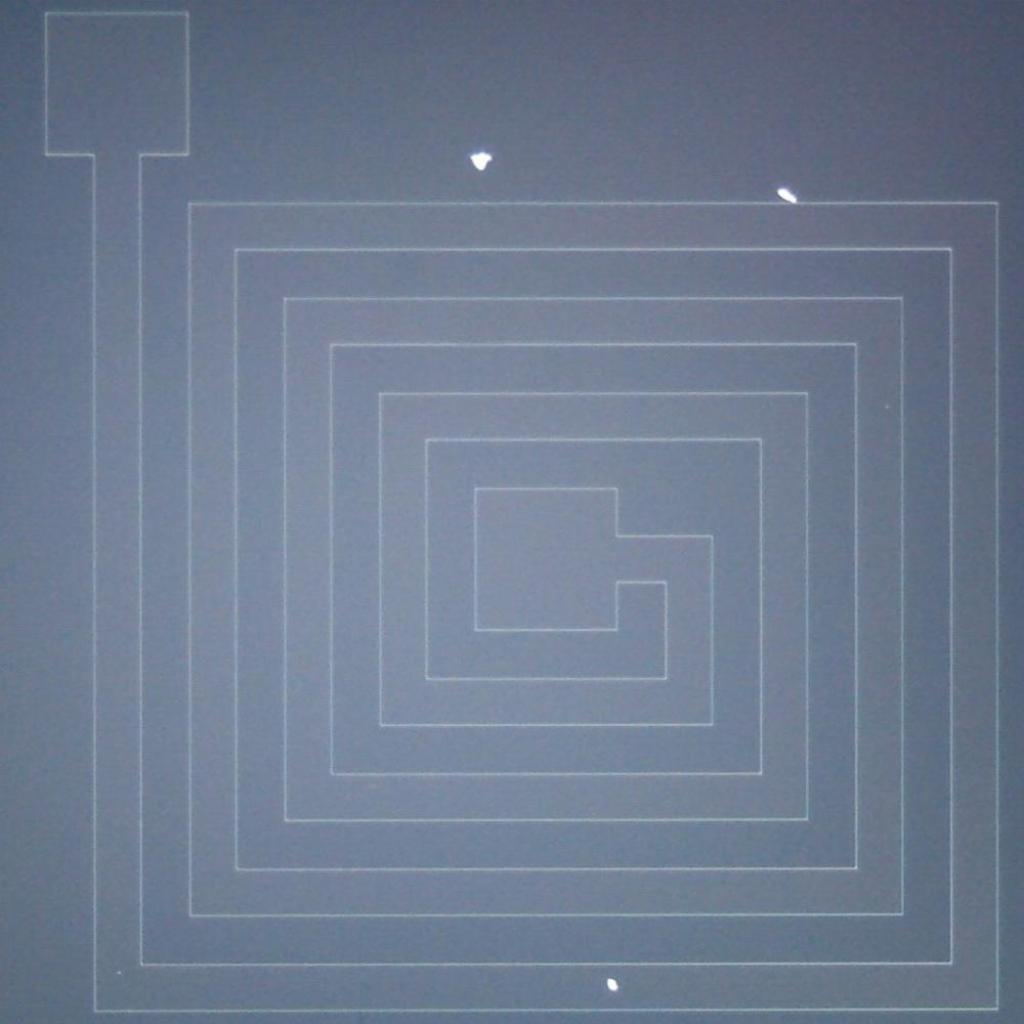Bdot: (469, 150, 492, 173), (777, 182, 797, 202)
dot: (606, 978, 619, 991), (117, 970, 122, 976)
